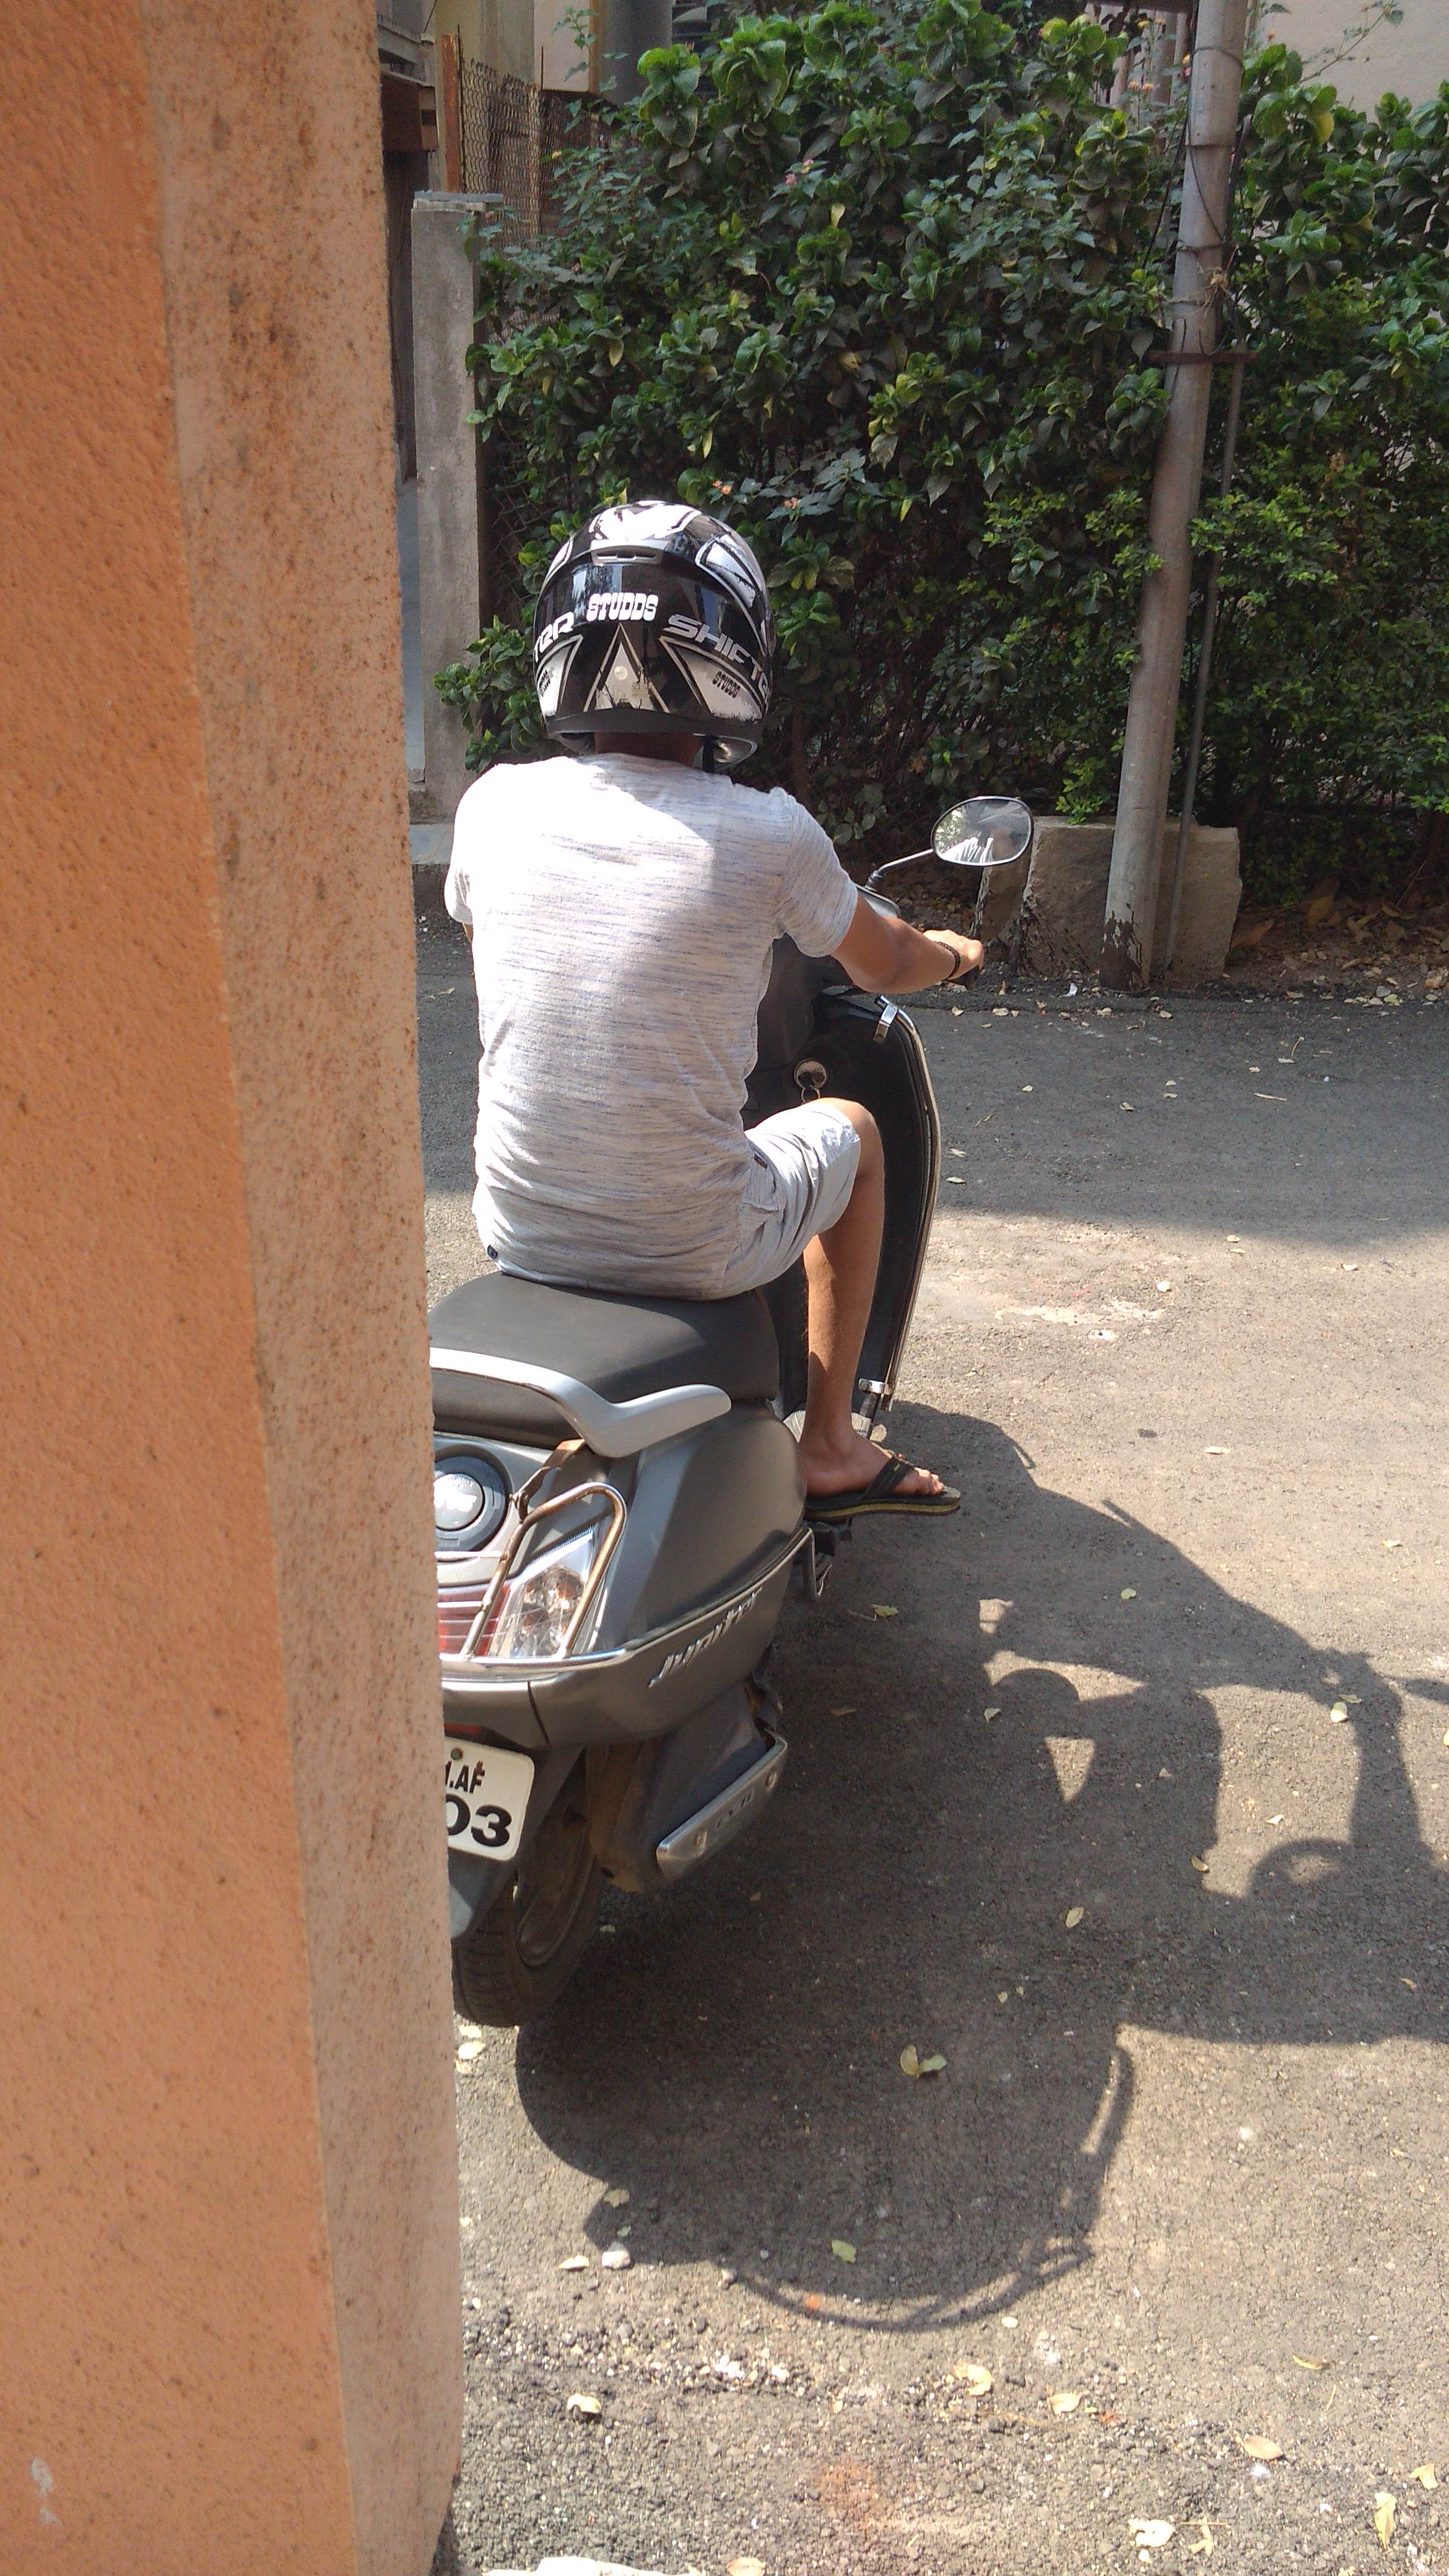helmet: (407, 442, 927, 1267)
